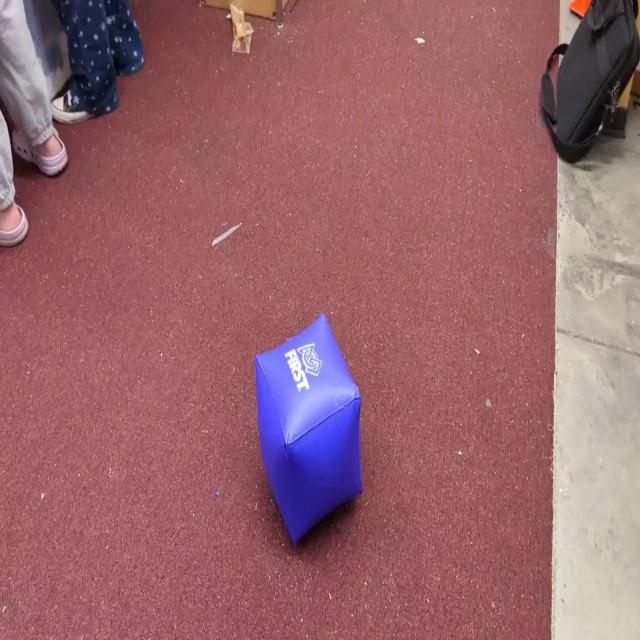frc_cube: (255, 310, 363, 547)
